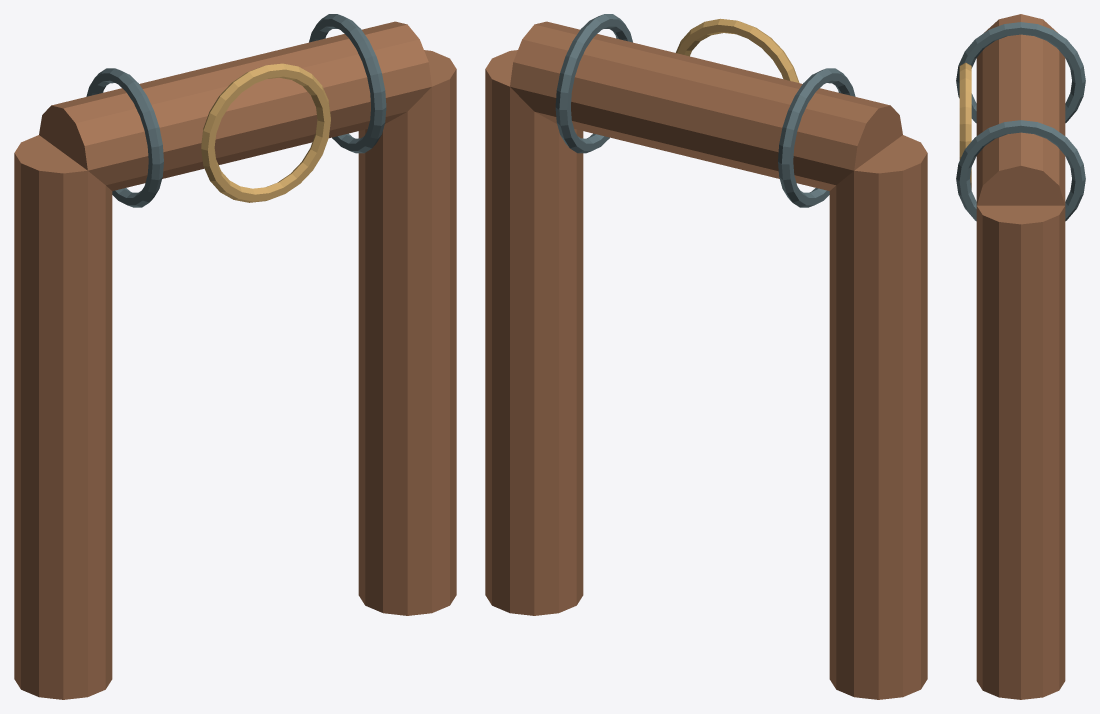
Rendered from pipe.glb.
3 views of the same model, side by side, from view 1: azimuth 30°, elevation 25°; view 2: azimuth 150°, elevation 25°; view 3: azimuth 270°, elevation 25° (orthographic). The views are drawn at different scales.
Parts seen in each view (by area): view 1: Pipe column, Pipe column.001, Overhead pipe, Valve wheel, Pipe flange.001, Pipe flange; view 2: Pipe column, Pipe column.001, Overhead pipe, Pipe flange.001, Pipe flange, Valve wheel; view 3: Pipe column.001, Overhead pipe, Pipe flange.001, Pipe flange, Valve wheel.
Boxes of the visible parts, <box> form: Pipe column: <box>14,135,112,699</box>; Pipe column.001: <box>358,50,456,615</box>; Overhead pipe: <box>39,21,431,190</box>; Valve wheel: <box>201,63,330,202</box>; Pipe flange.001: <box>309,14,386,153</box>; Pipe flange: <box>86,68,163,207</box>; Pipe column: <box>829,135,927,699</box>; Pipe column.001: <box>485,50,583,615</box>; Overhead pipe: <box>510,21,902,190</box>; Pipe flange.001: <box>555,14,632,153</box>; Pipe flange: <box>778,68,855,207</box>; Valve wheel: <box>675,18,799,82</box>; Pipe column.001: <box>976,205,1065,699</box>; Overhead pipe: <box>976,14,1065,205</box>; Pipe flange.001: <box>956,120,1085,221</box>; Pipe flange: <box>956,22,1085,123</box>; Valve wheel: <box>959,62,971,189</box>.
Bounding box in the file's own units: 1.62 × 2.14 × 0.47.
